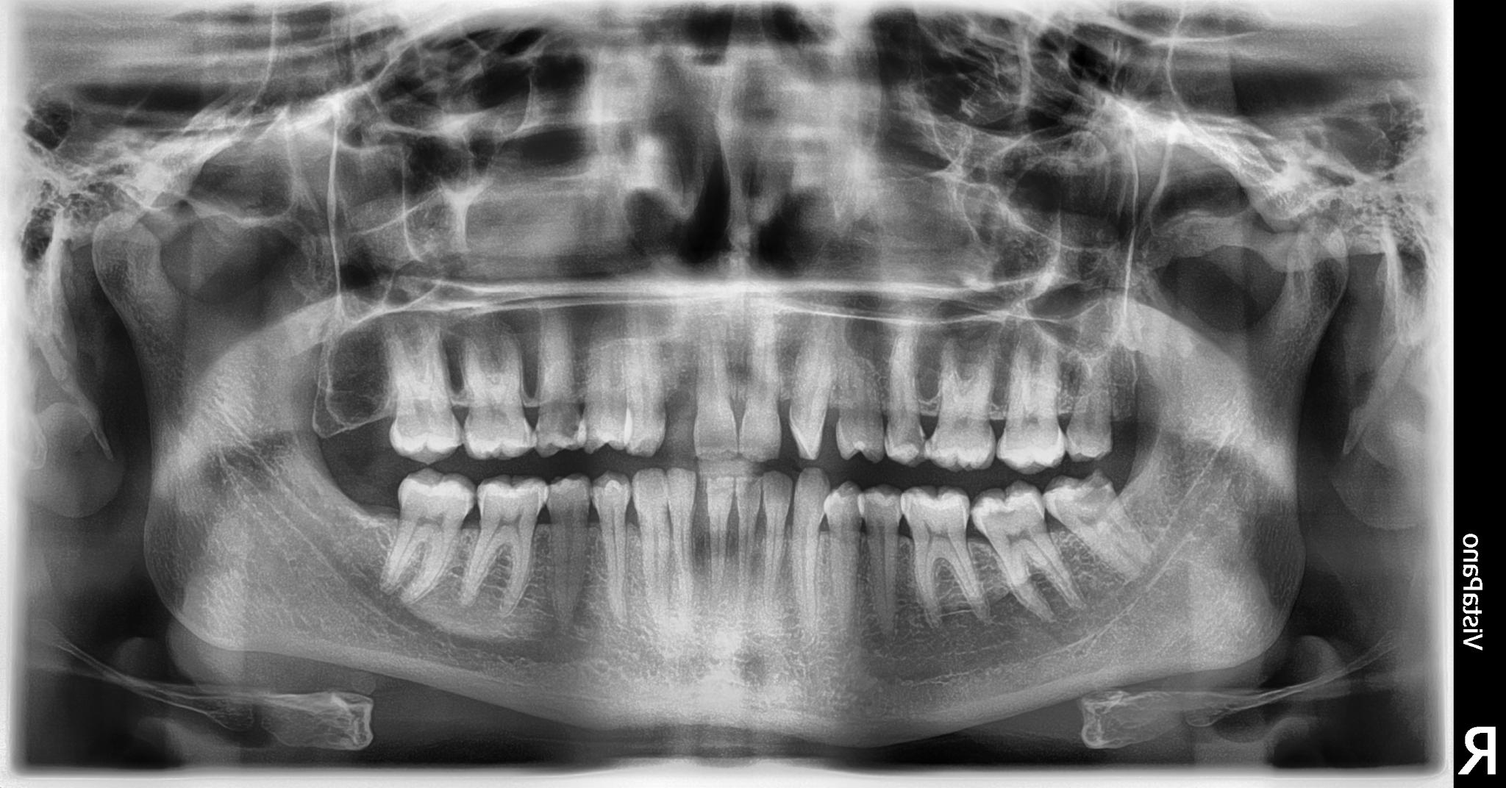Premolars: (533, 276, 1506, 754), (496, 252, 1456, 733), (571, 235, 1506, 699), (469, 275, 1401, 622), (329, 238, 931, 703), (302, 240, 791, 708), (248, 244, 710, 711), (294, 251, 876, 566), (267, 208, 790, 542)
